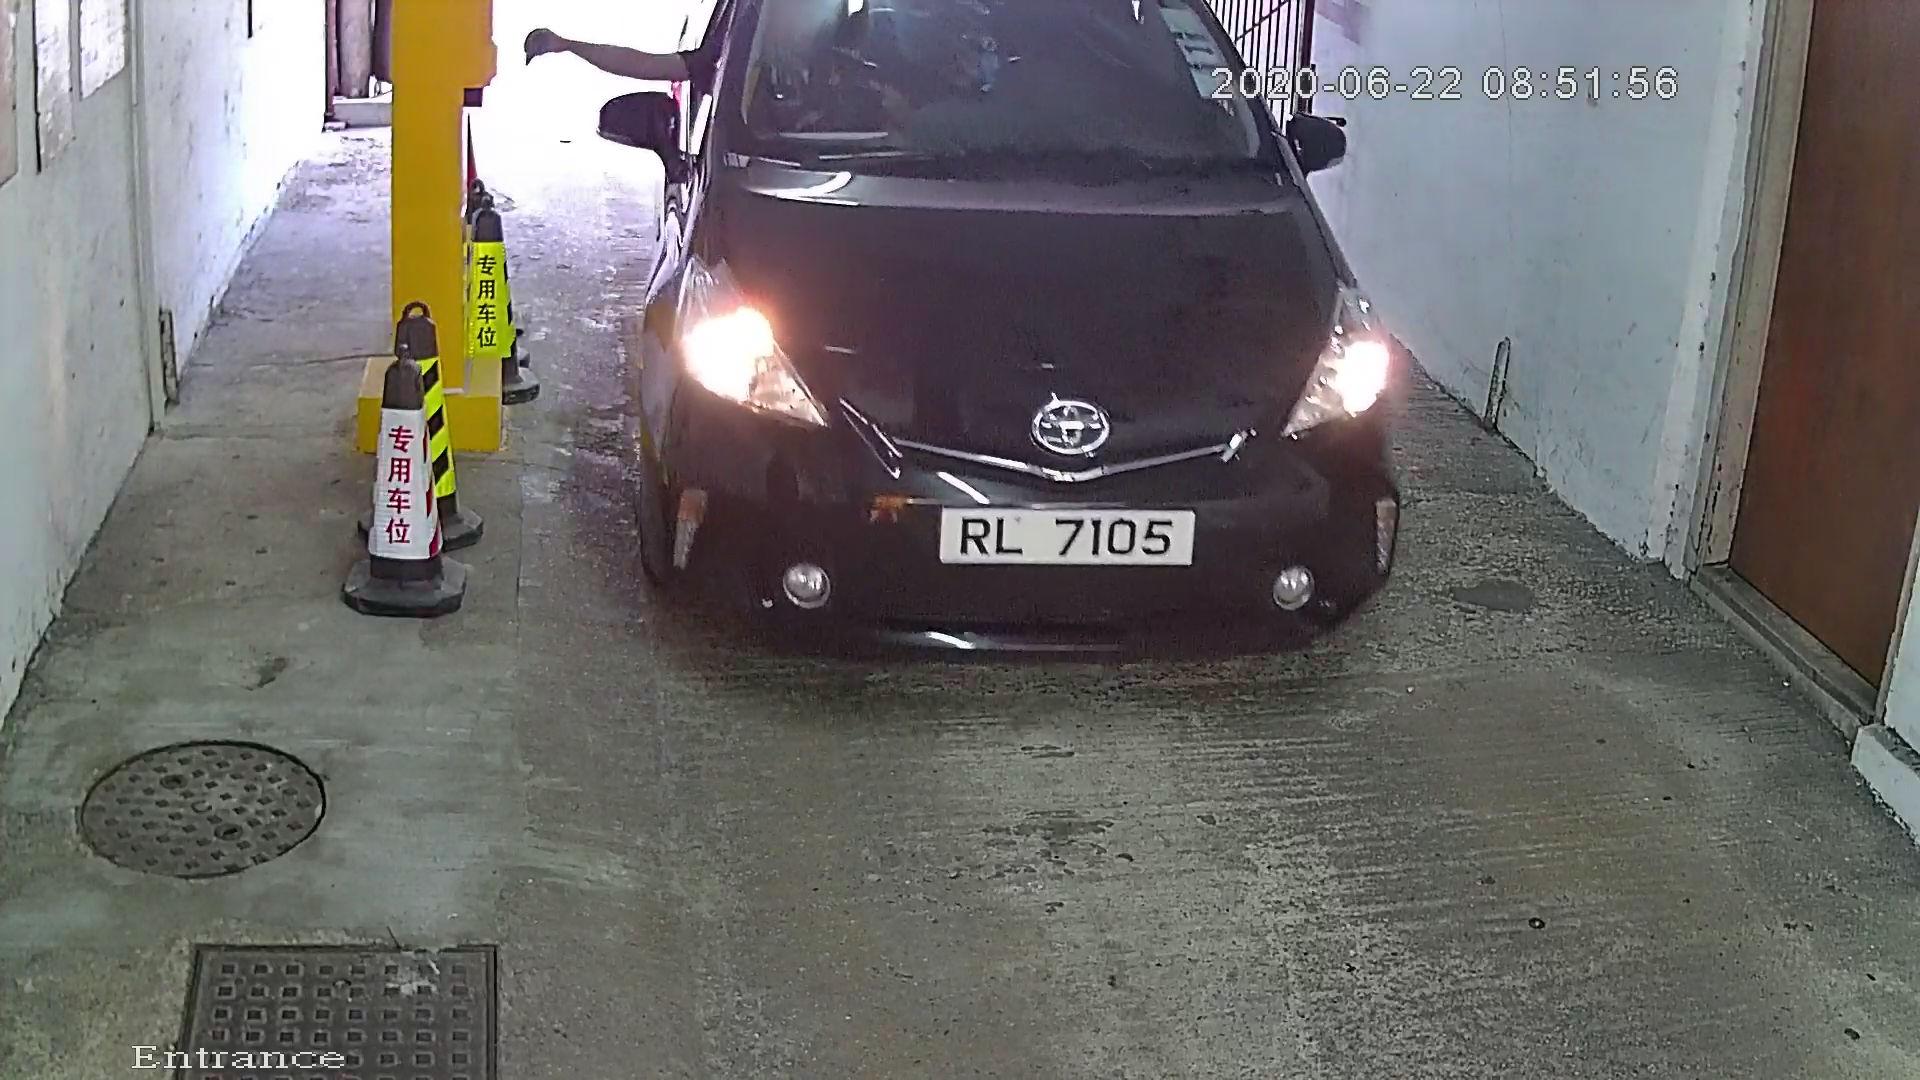privatecar: (556, 3, 1460, 703)
